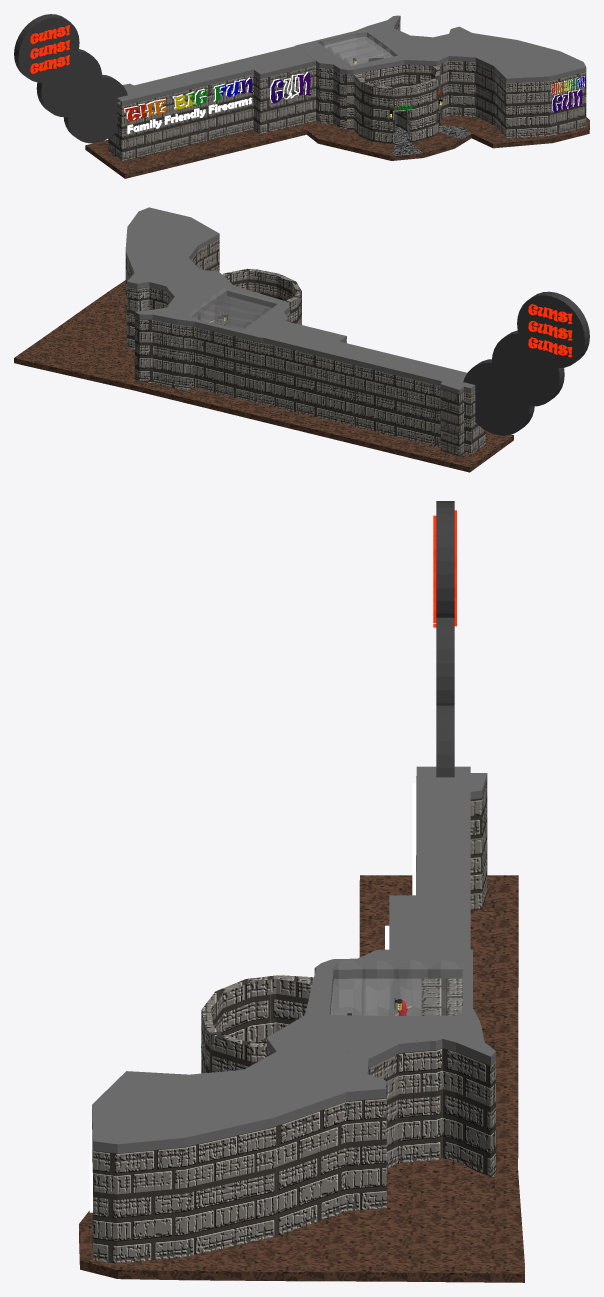
File: Gun Store.glb
3 views of the same model, one above another, from view 1: azimuth 30°, elevation 25°; view 2: azimuth 150°, elevation 25°; view 3: azimuth 270°, elevation 25° (orthographic). The views are drawn at different scales.
Parts seen in each view (by area): view 1: Cube.001, Roof, Ground, Sign, Gun, Sign.001, Skylight.003, Guns Text, Cube.003; view 2: Cube.001, Roof, Ground, Sign, Gun, Skylight.003, Guns Text; view 3: Cube.001, Roof, Ground, Gun, Skylight.003, Sign.
Boxes of the visible parts, x1=… form: Cube.001: x1=108, y1=21, x2=586, y2=160; Roof: x1=117, y1=15, x2=586, y2=105; Ground: x1=85, y1=115, x2=589, y2=178; Sign: x1=14, y1=14, x2=127, y2=143; Gun: x1=122, y1=64, x2=542, y2=161; Sign.001: x1=124, y1=71, x2=585, y2=133; Skylight.003: x1=318, y1=29, x2=397, y2=65; Guns Text: x1=30, y1=25, x2=69, y2=73; Cube.003: x1=356, y1=37, x2=391, y2=64; Cube.001: x1=125, y1=239, x2=485, y2=454; Roof: x1=125, y1=207, x2=475, y2=394; Ground: x1=14, y1=280, x2=513, y2=472; Sign: x1=463, y1=291, x2=589, y2=435; Gun: x1=130, y1=268, x2=463, y2=456; Skylight.003: x1=190, y1=288, x2=277, y2=329; Guns Text: x1=528, y1=304, x2=572, y2=357; Cube.001: x1=92, y1=978, x2=495, y2=1263; Roof: x1=92, y1=766, x2=495, y2=1153; Ground: x1=79, y1=875, x2=524, y2=1282; Gun: x1=110, y1=781, x2=495, y2=1263; Skylight.003: x1=330, y1=960, x2=462, y2=1015; Sign: x1=436, y1=501, x2=454, y2=777.
Size of what is drawn, in the model's own units: 34.47 by 11.39 by 13.44.
65 materials, 4 textured.
